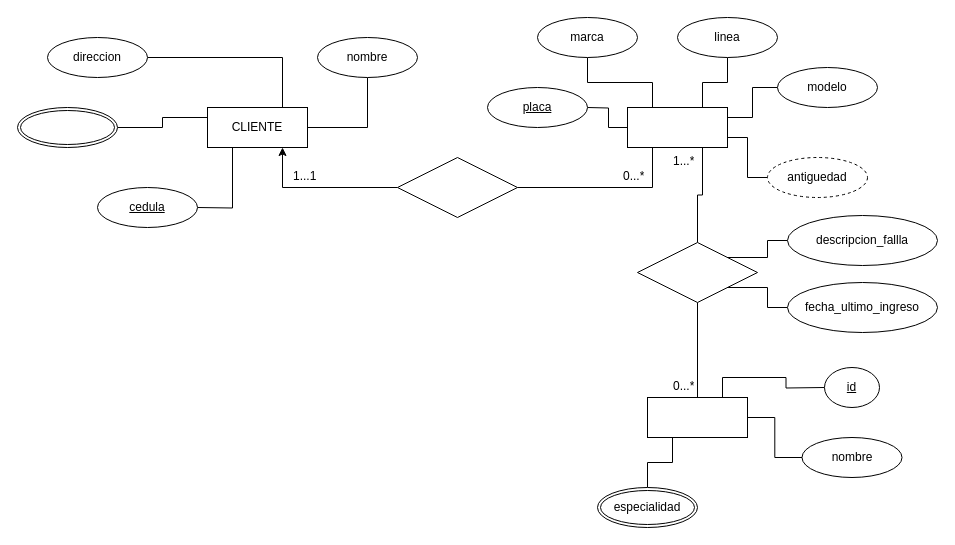
Some shapes in this 955 by 545 pixel diagram are drawn without their labels. The centre of each missing label's shape, as x and y in pixels:
correo: the point at 67,127
MECANICO: the point at 697,417
poseer: the point at 457,187
reparar: the point at 697,272
VEHICULO: the point at 677,127
